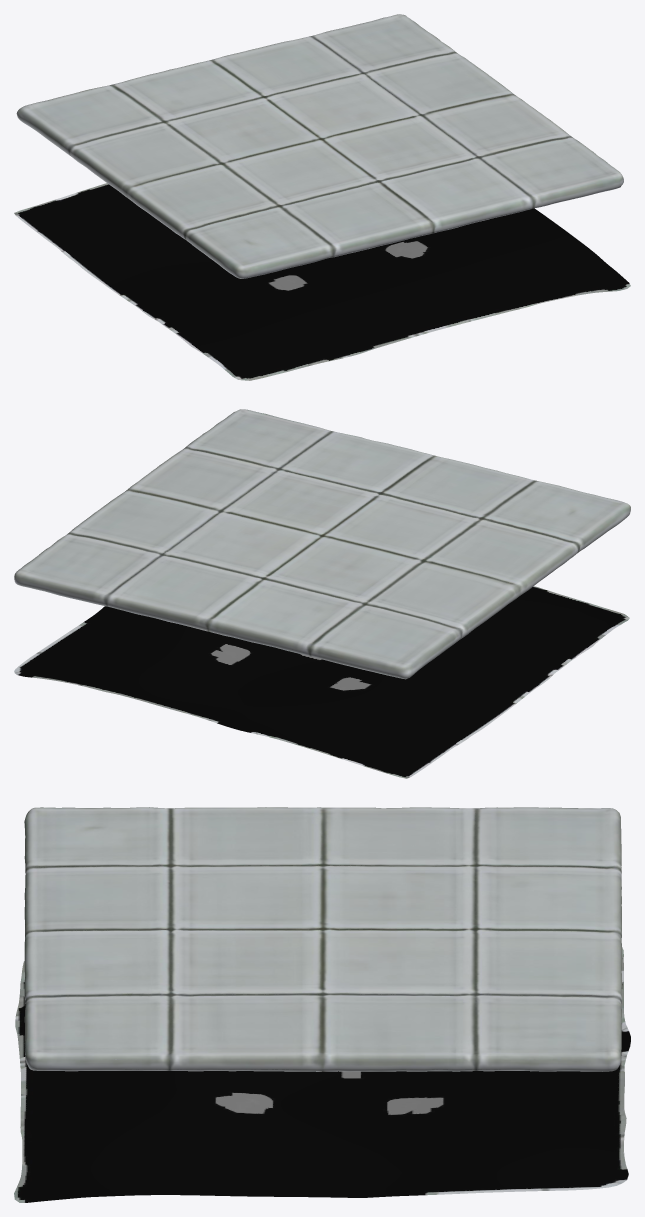
The model's file is whiteTile.glb.
The picture shows the model from 3 angles, top to bottom: view 1: azimuth 30°, elevation 25°; view 2: azimuth 150°, elevation 25°; view 3: azimuth 270°, elevation 25°; orthographic projection. The views are drawn at different scales.
Parts seen in each view (by area): view 1: mesh; view 2: mesh; view 3: mesh.
Boxes of the visible parts, x1,y1,x2,y2 form: mesh: (14, 14, 630, 380); mesh: (14, 409, 630, 778); mesh: (14, 807, 630, 1202).
Bounding box in the file's own units: 0.9837 × 0.2729 × 0.9992.
1 material, 1 textured.
